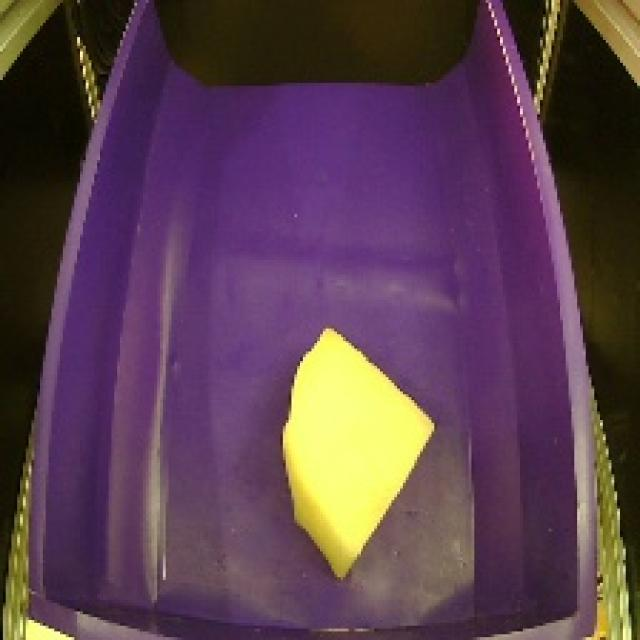potato: (264, 317, 446, 584)
